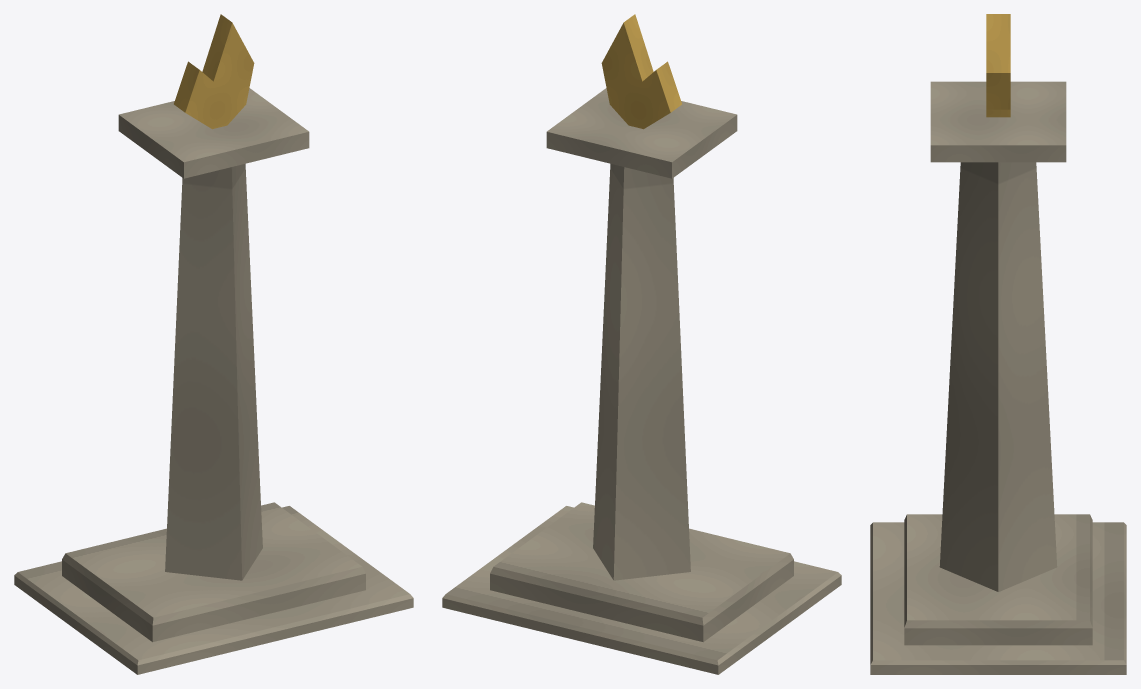
The picture shows the model from 3 angles, left to right: view 1: azimuth 30°, elevation 25°; view 2: azimuth 150°, elevation 25°; view 3: azimuth 270°, elevation 25°; orthographic projection. The views are drawn at different scales.
Visible parts, largest first — view 1: jakarta; view 2: jakarta; view 3: jakarta.
Part boxes in pixels (left/top/right/bottom): jakarta: left=14, top=14, right=413, bottom=674; jakarta: left=442, top=14, right=841, bottom=674; jakarta: left=870, top=14, right=1126, bottom=674.
Bounding box in the file's own units: 4.4 × 8.75 × 3.4.
1 material, 1 textured.
